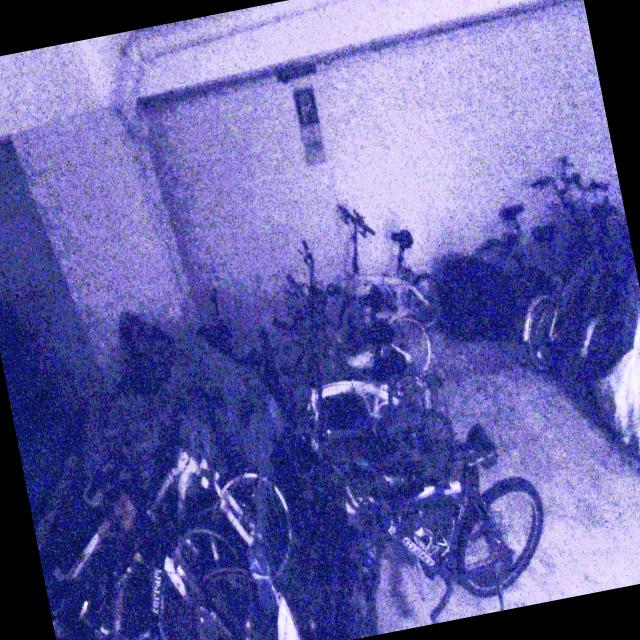bike: (297, 414, 561, 640), (314, 188, 452, 356)
